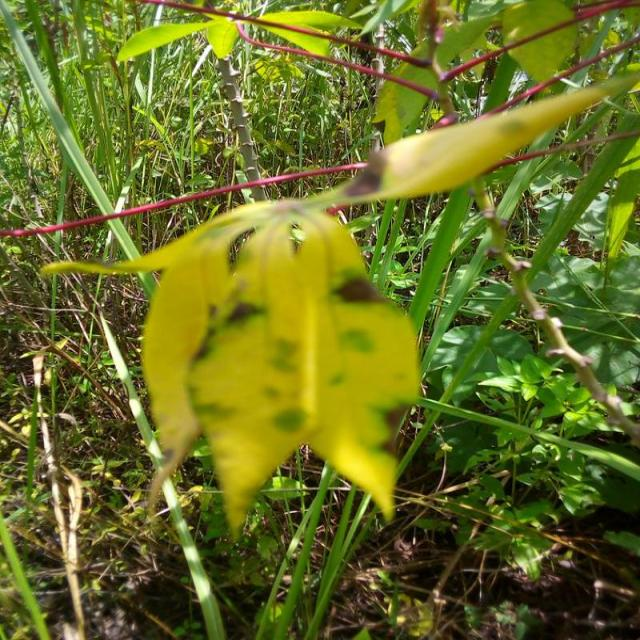cassava leaf: (140, 202, 422, 540)
